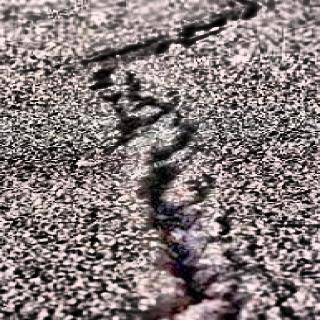crack: (87, 70, 283, 320), (168, 2, 262, 46)
pothole: (86, 29, 163, 67)
